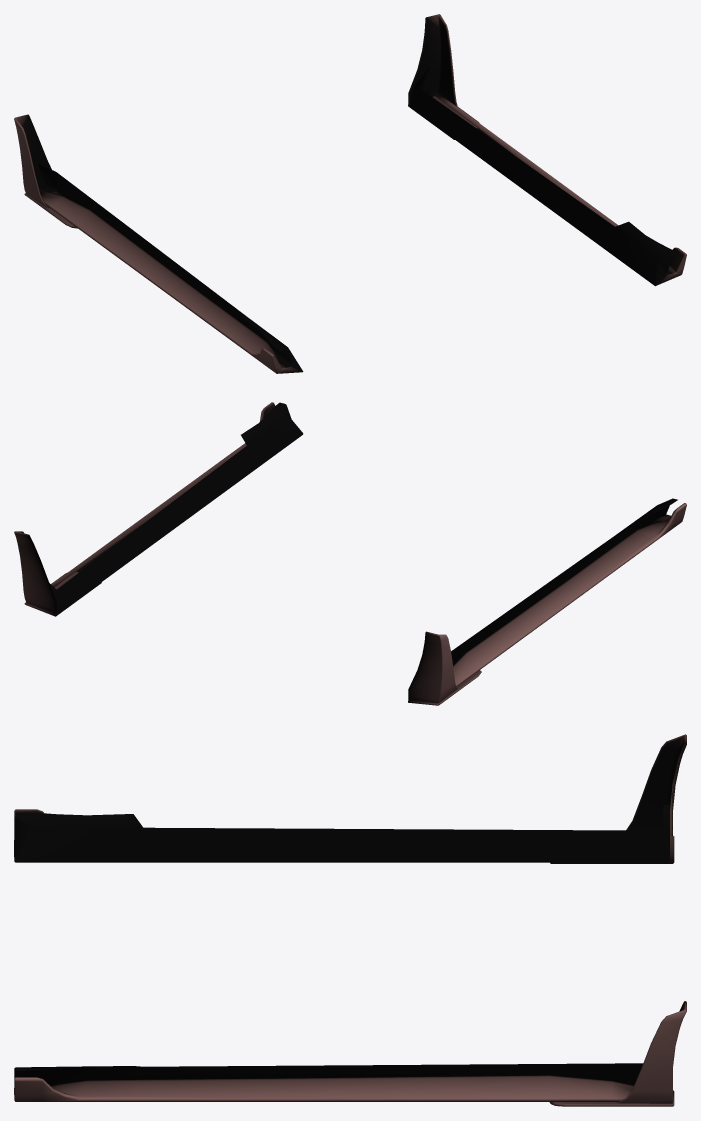
File: Mustang16_Skirt_GT_Trim.fbx
3 renders of one model, top to bottom at view 1: azimuth 30°, elevation 25°; view 2: azimuth 150°, elevation 25°; view 3: azimuth 270°, elevation 25°, orthographic. The views are drawn at different scales.
Parts seen in each view (by area): view 1: Mustang16_Skirt_GT_Trim; view 2: Mustang16_Skirt_GT_Trim; view 3: Mustang16_Skirt_GT_Trim.
Boxes of the visible parts, bbox=[...] form: Mustang16_Skirt_GT_Trim: bbox=[14, 14, 686, 373]; Mustang16_Skirt_GT_Trim: bbox=[14, 402, 686, 705]; Mustang16_Skirt_GT_Trim: bbox=[14, 734, 686, 1106].
Bounding box in the file's own units: 191 × 34.23 × 196.
